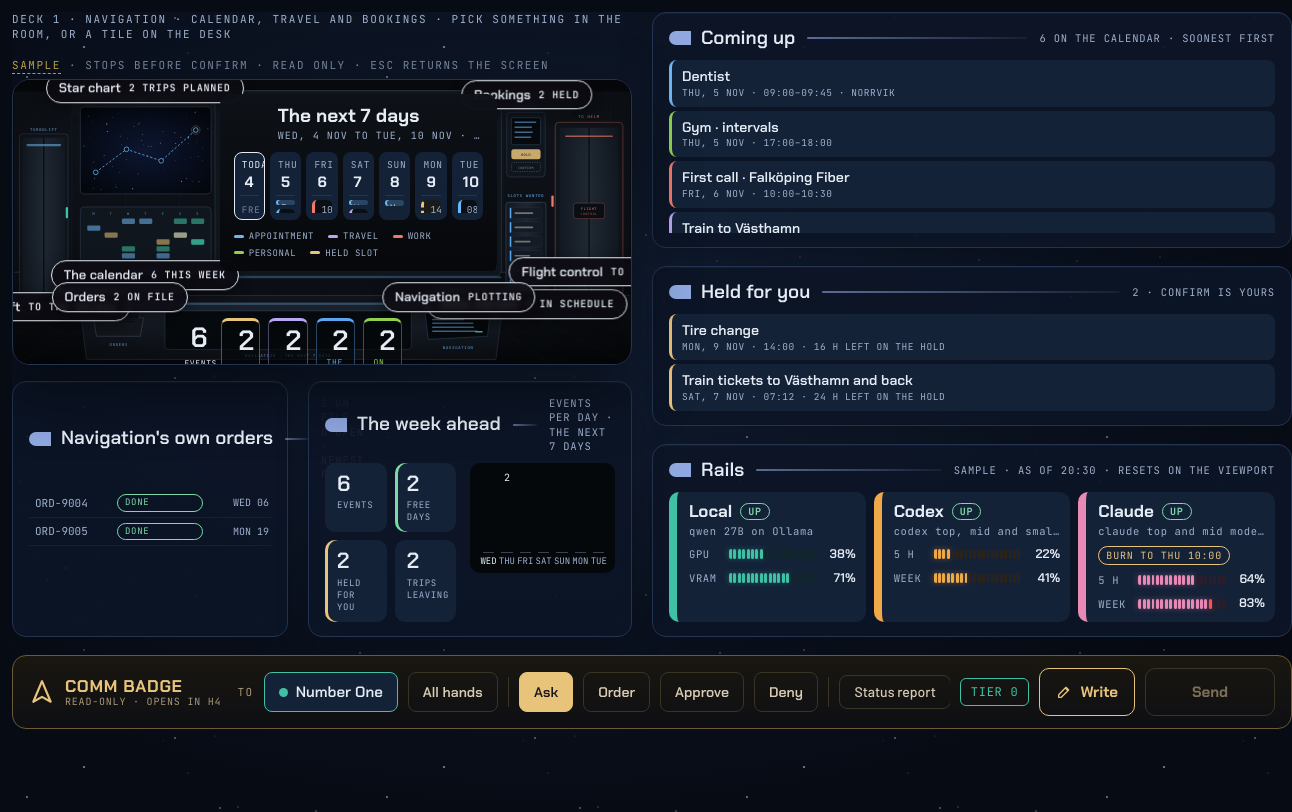
Test case: Navigation's post › the slot board lists the Schedule box and the free windows
The width and height of the screenshot is (1292, 812).
Click the button "Slots wanted 2 IN SCHEDULE".
click(527, 244)  # box [502,191,551,296]
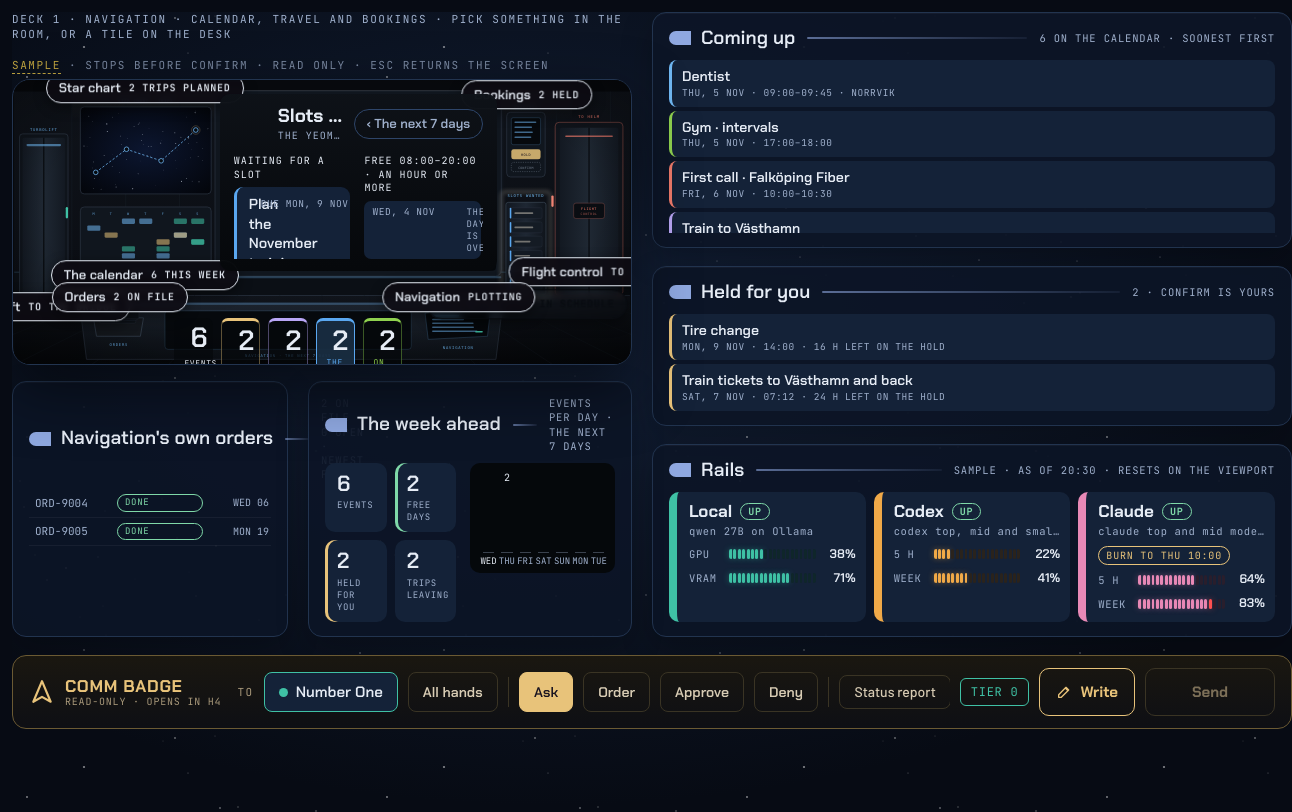
Result: the text with class "con-title" reads "Slots wanted · 2" at [278,103,419,128]
